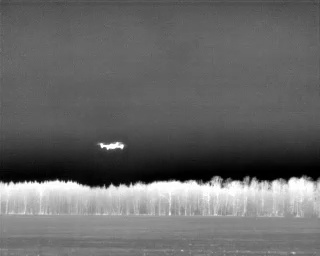DRONE: (94, 136, 130, 156)
